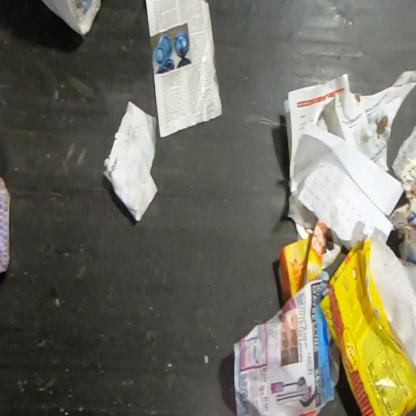cardboard: (317, 237, 415, 415)
